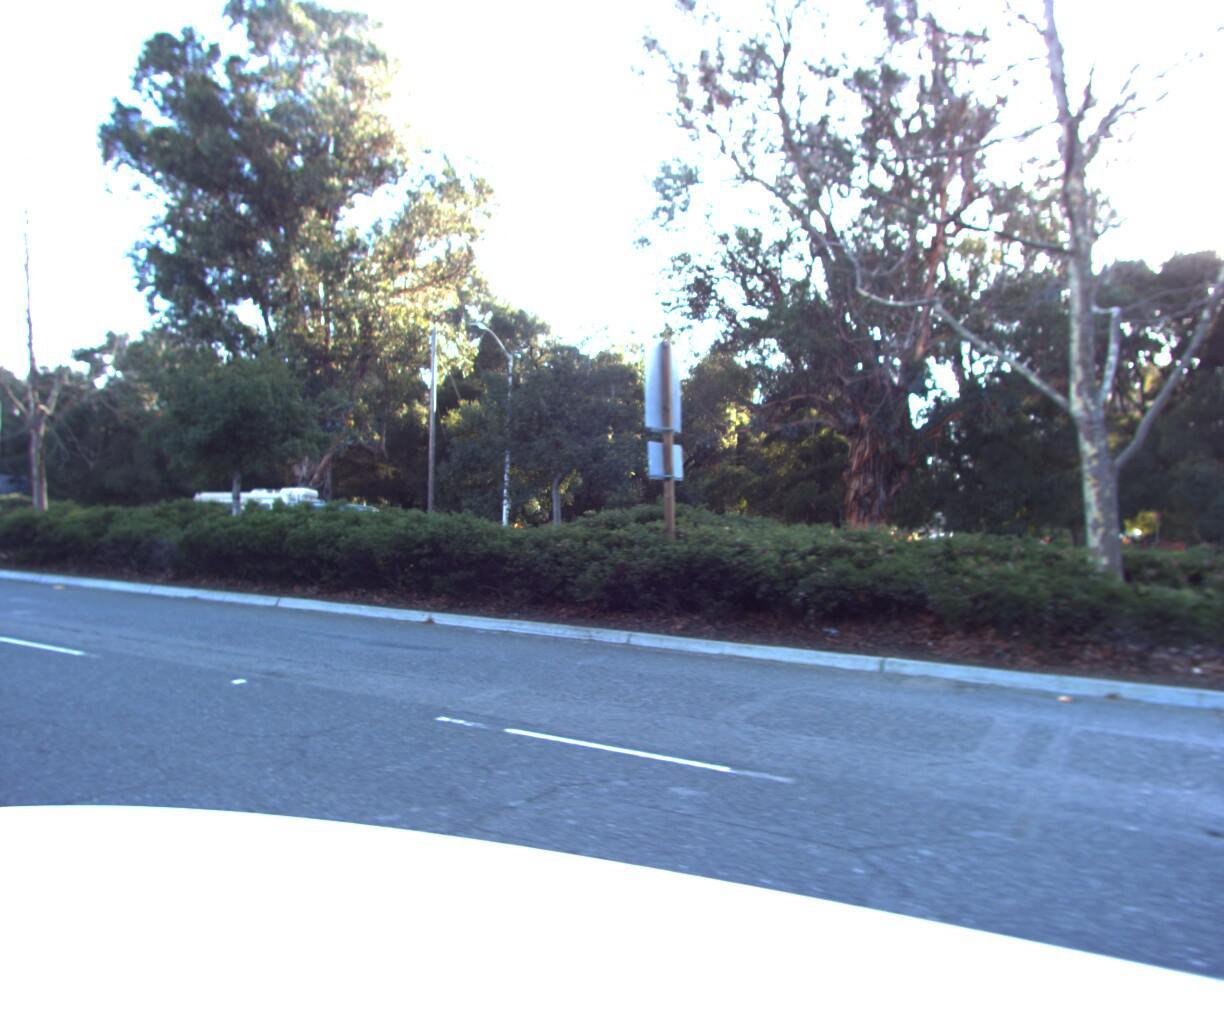car: (227, 501, 399, 563)
other_vehicle: (177, 486, 333, 560)
truck: (0, 472, 62, 544)
